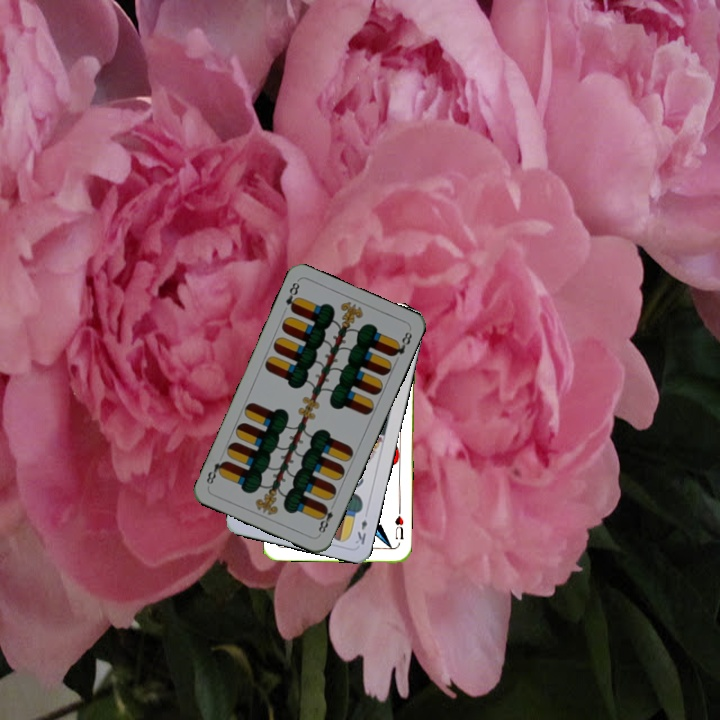E8: (314, 499, 338, 537), (281, 278, 302, 314)
EK: (351, 515, 370, 547)
HU: (391, 506, 406, 542)
